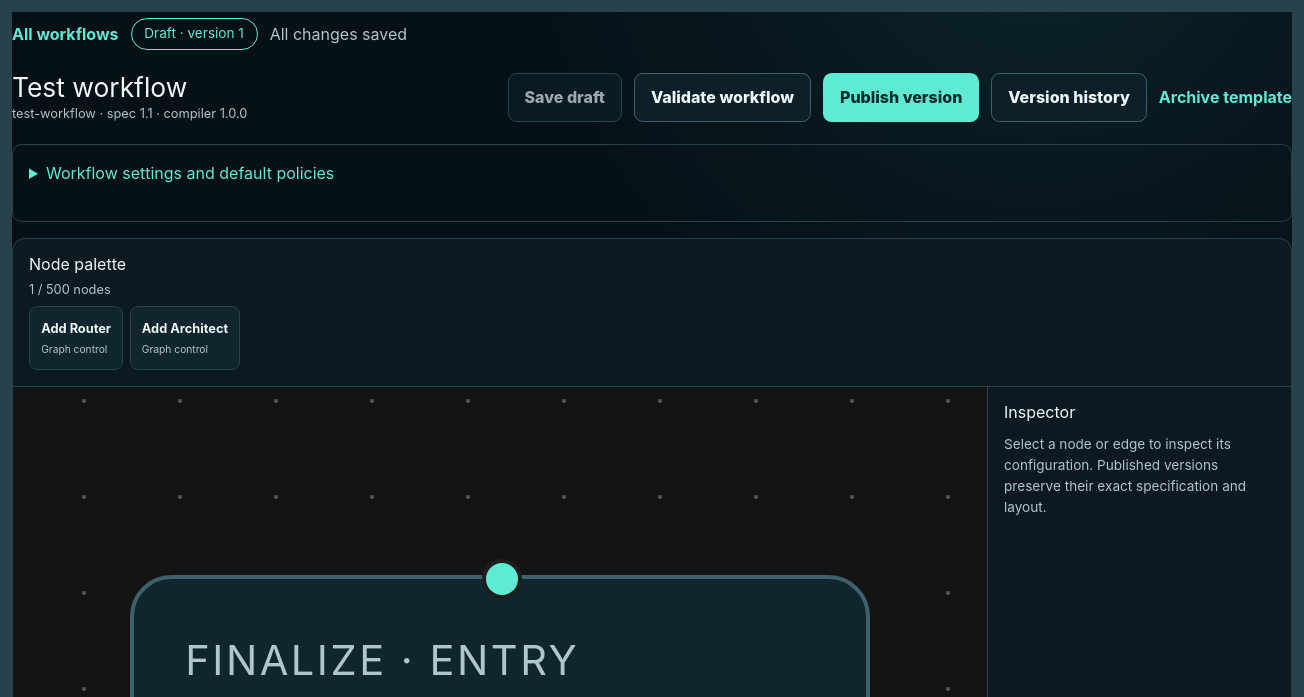
Test: canonical Workflow Studio › preserves a local draft when another session wins the optimistic save
Click the button "Add Router Graph control": (76, 338) [29,306,123,370]
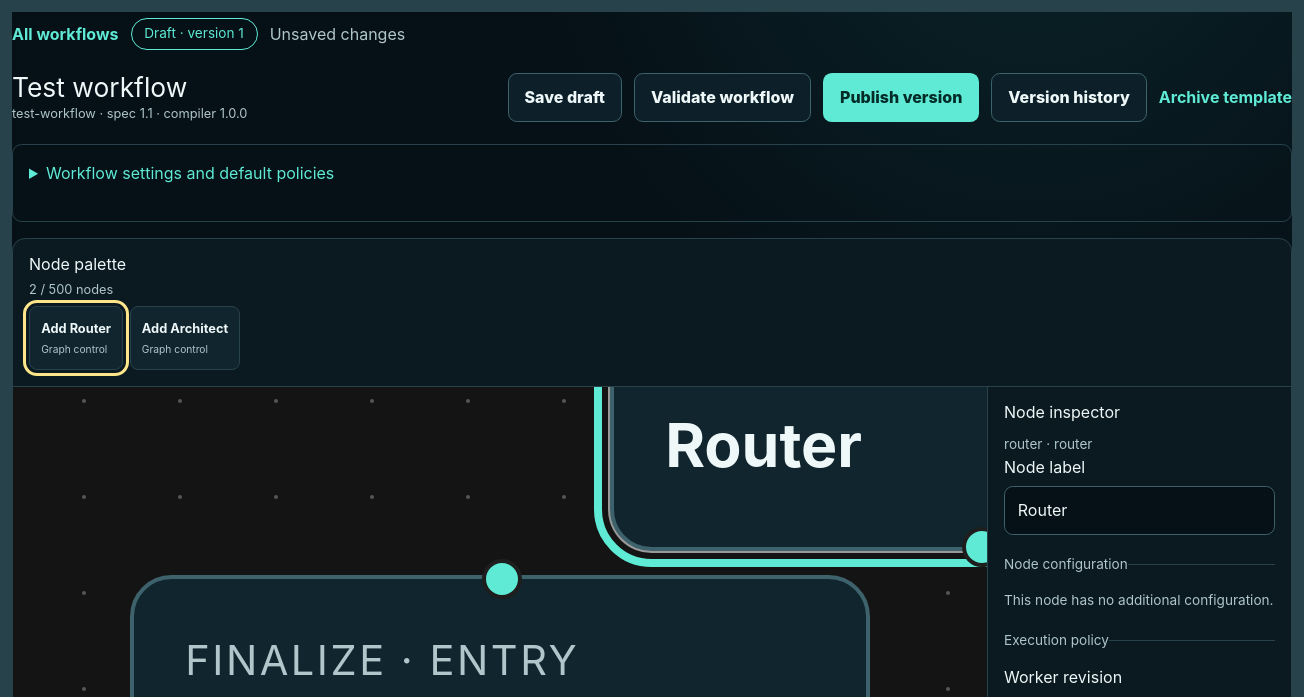
Replace the text in the field labelled "Node label" with "Local unsaved work": (1140, 511) [1004,486,1275,535]
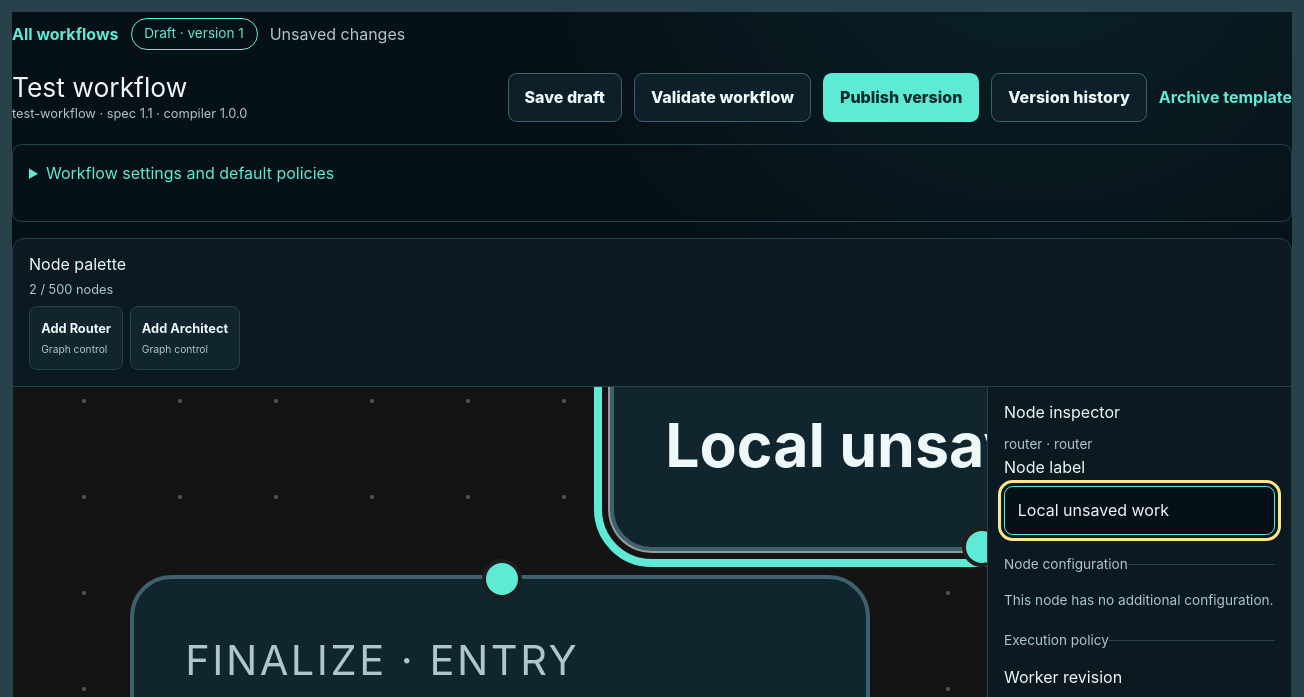
Click the button "Save draft": (565, 98) [508,73,622,122]
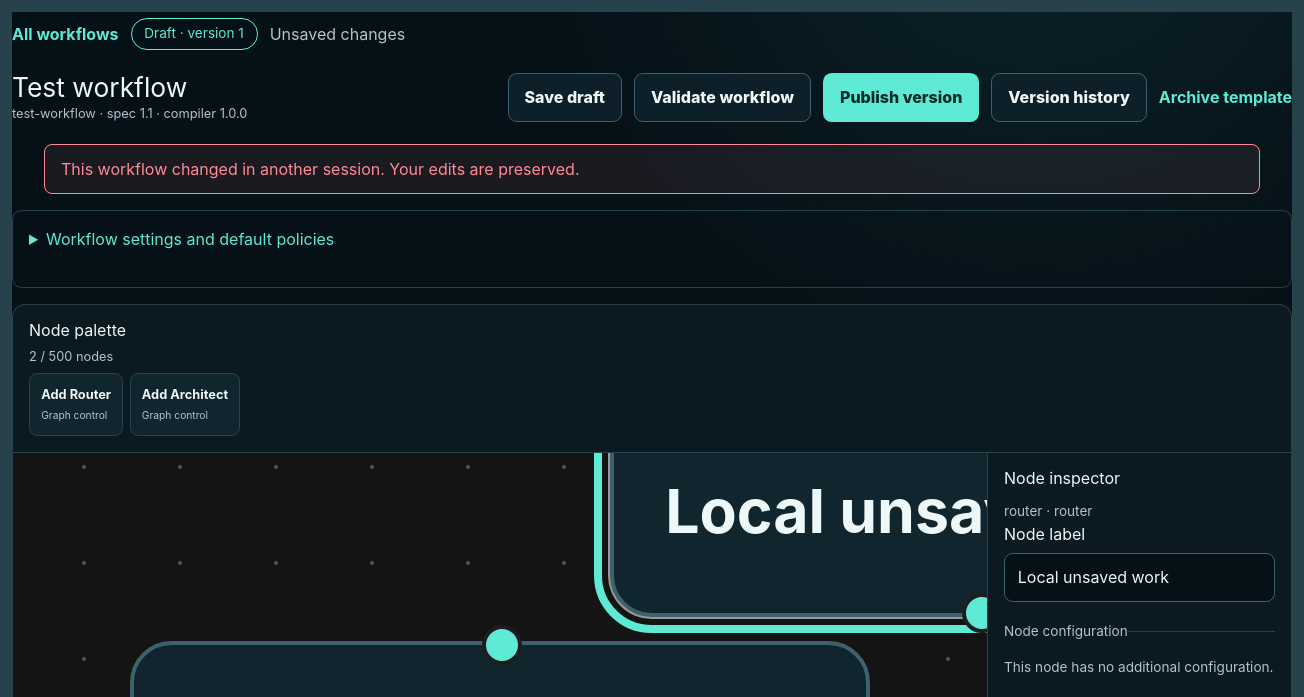
Check: the text "Unsaved changes" is shown, box [270,22,405,46]
Check: the message shows "another session", box [61,158,580,178]
